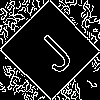J: (25, 25, 77, 76)
